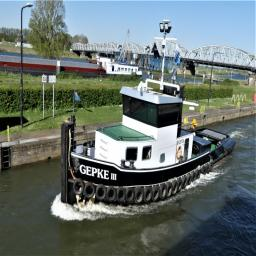tugboat: (60, 78, 237, 213)
